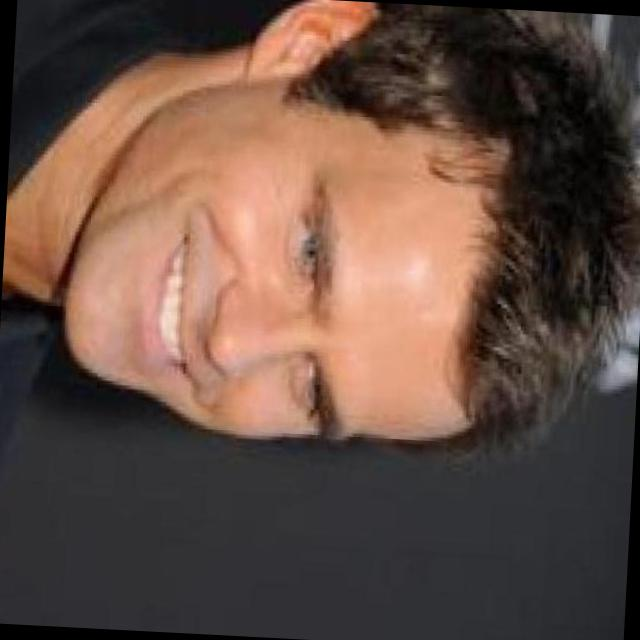bareface: (42, 29, 594, 474)
